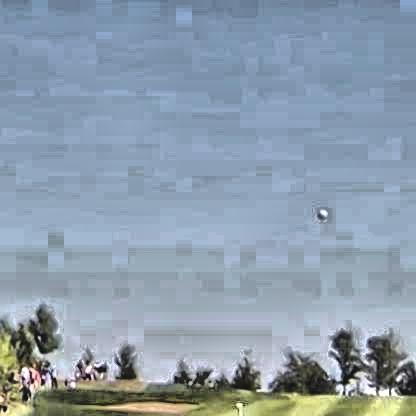golfball: (314, 207, 325, 218)
